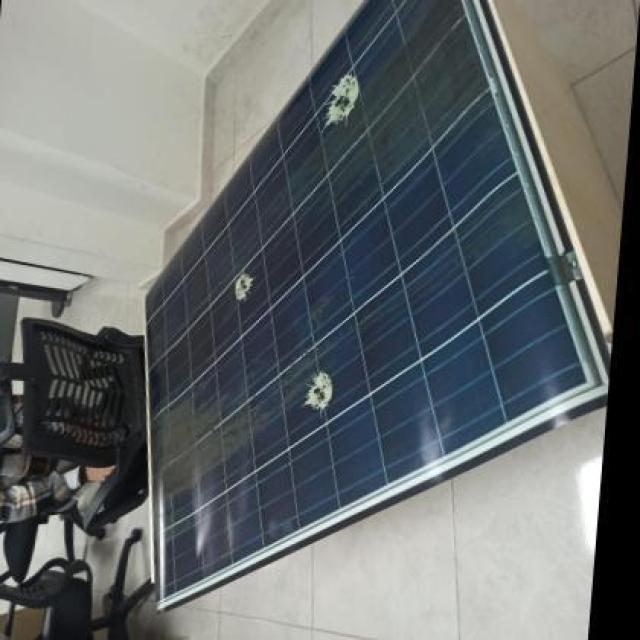soiled: (116, 3, 611, 628)
